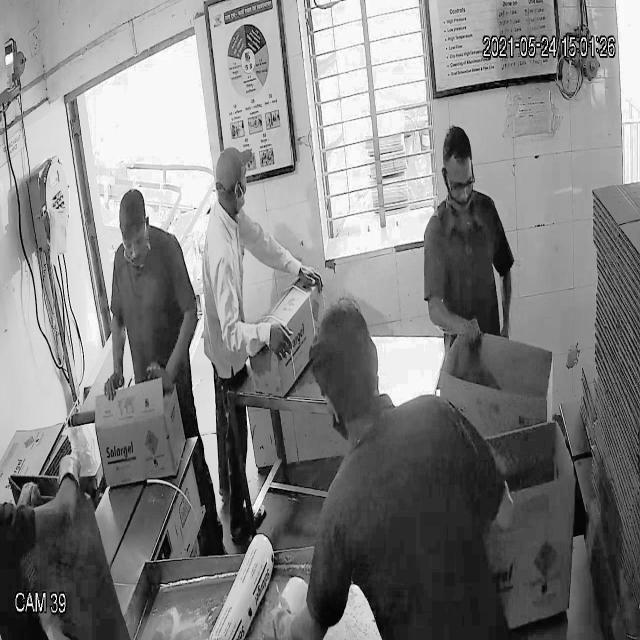glasses: (442, 162, 476, 200)
